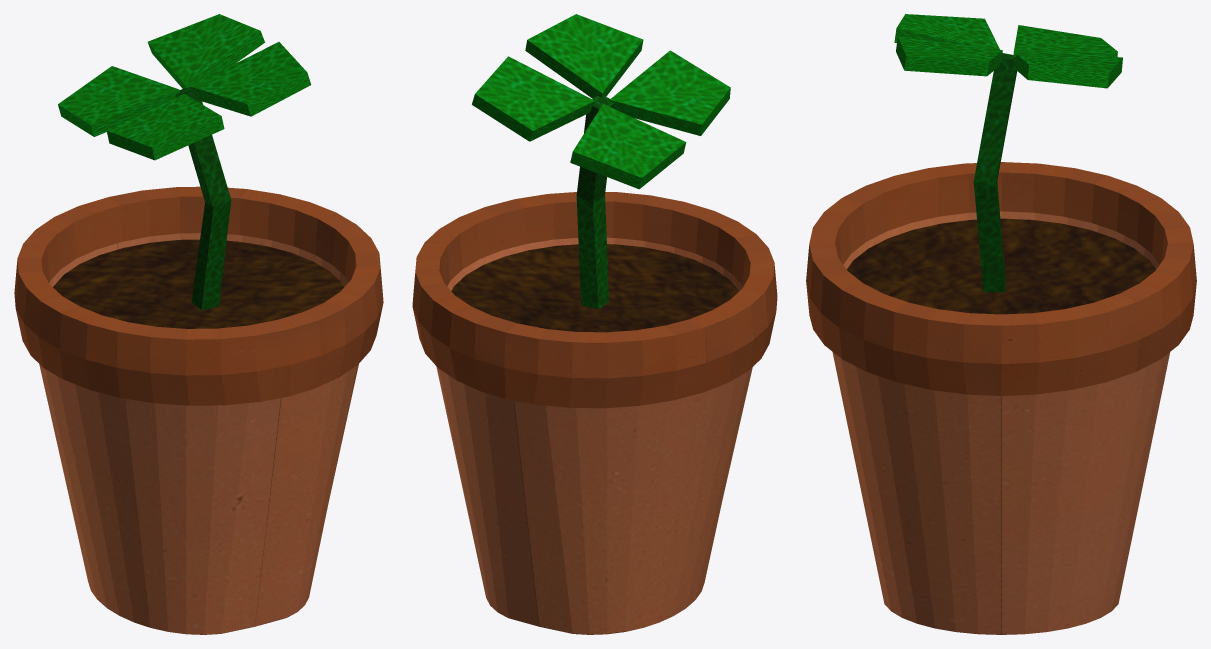
The model's file is TREVO4FOLHAS.fbx.
The picture shows the model from 3 angles, left to right: view 1: azimuth 30°, elevation 25°; view 2: azimuth 150°, elevation 25°; view 3: azimuth 270°, elevation 25°; orthographic projection. The views are drawn at different scales.
Visible parts, largest first — view 1: Corpo do Vaso, Borda do Vaso, Terra, Folha2, Folha1, Corpo da Planta, Folha4, Folha3; view 2: Corpo do Vaso, Borda do Vaso, Terra, Folha3, Folha2, Folha1, Folha4, Corpo da Planta; view 3: Corpo do Vaso, Borda do Vaso, Terra, Corpo da Planta, Folha2, Folha1, Folha3, Folha4.
Boxes of the visible parts, x1=… form: Corpo do Vaso: x1=39, y1=233, x2=358, y2=634; Borda do Vaso: x1=14, y1=186, x2=383, y2=405; Terra: x1=53, y1=239, x2=344, y2=328; Folha2: x1=190, y1=42, x2=311, y2=116; Folha1: x1=147, y1=14, x2=264, y2=88; Corpo da Planta: x1=175, y1=87, x2=231, y2=310; Folha4: x1=58, y1=66, x2=179, y2=136; Folha3: x1=106, y1=94, x2=224, y2=160; Corpo do Vaso: x1=436, y1=237, x2=752, y2=634; Borda do Vaso: x1=412, y1=192, x2=777, y2=408; Terra: x1=451, y1=244, x2=738, y2=332; Folha3: x1=609, y1=50, x2=730, y2=135; Folha2: x1=525, y1=14, x2=643, y2=98; Folha1: x1=472, y1=56, x2=594, y2=141; Folha4: x1=570, y1=104, x2=686, y2=189; Corpo da Planta: x1=576, y1=95, x2=614, y2=309; Corpo do Vaso: x1=832, y1=211, x2=1170, y2=634; Borda do Vaso: x1=806, y1=162, x2=1196, y2=395; Terra: x1=847, y1=218, x2=1155, y2=314; Corpo da Planta: x1=973, y1=53, x2=1017, y2=292; Folha2: x1=896, y1=36, x2=1002, y2=76; Folha1: x1=1015, y1=54, x2=1122, y2=88; Folha3: x1=894, y1=14, x2=999, y2=49; Folha4: x1=1013, y1=25, x2=1117, y2=56.
Bounding box in the file's own units: 302 × 477 × 299.
Materials: 5 (5 with a texture image).
